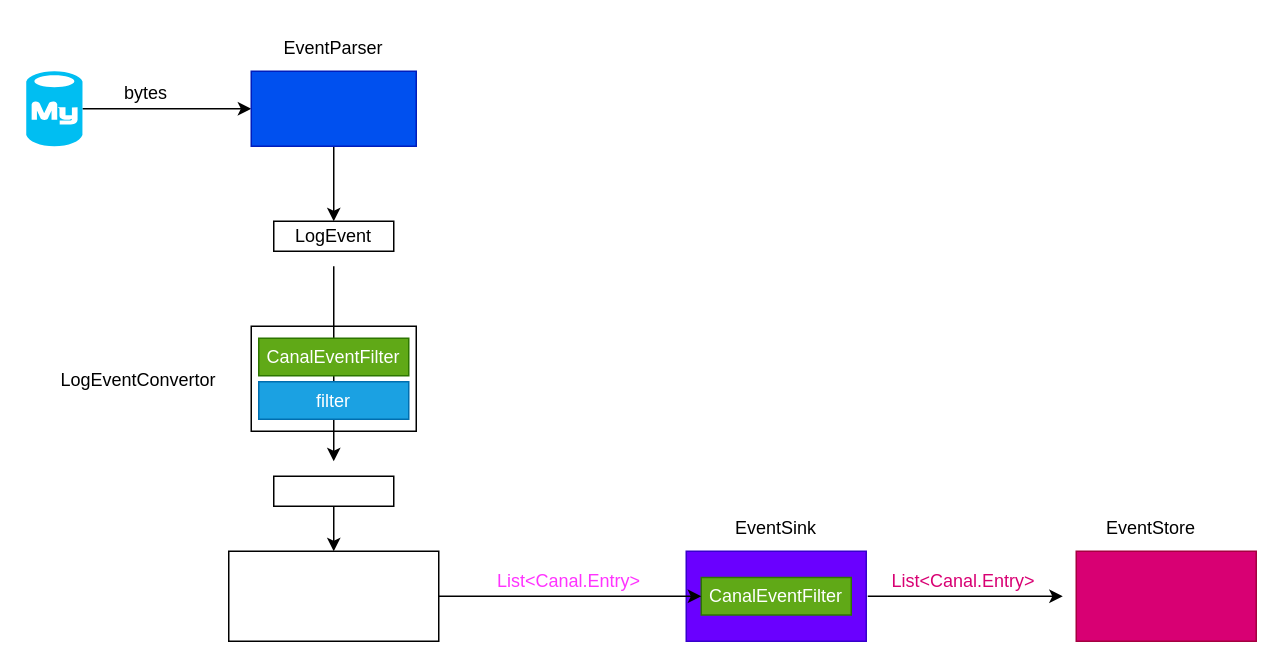
Image size: 1283x668. Some labels were removed from this diagram. The centre of each missing label's shape, as x and y in pixels:
Canal.Entry: pixel 333 490
EventTransactionBuffer ( private Canal.Entry[ ] ): pixel 333 595
